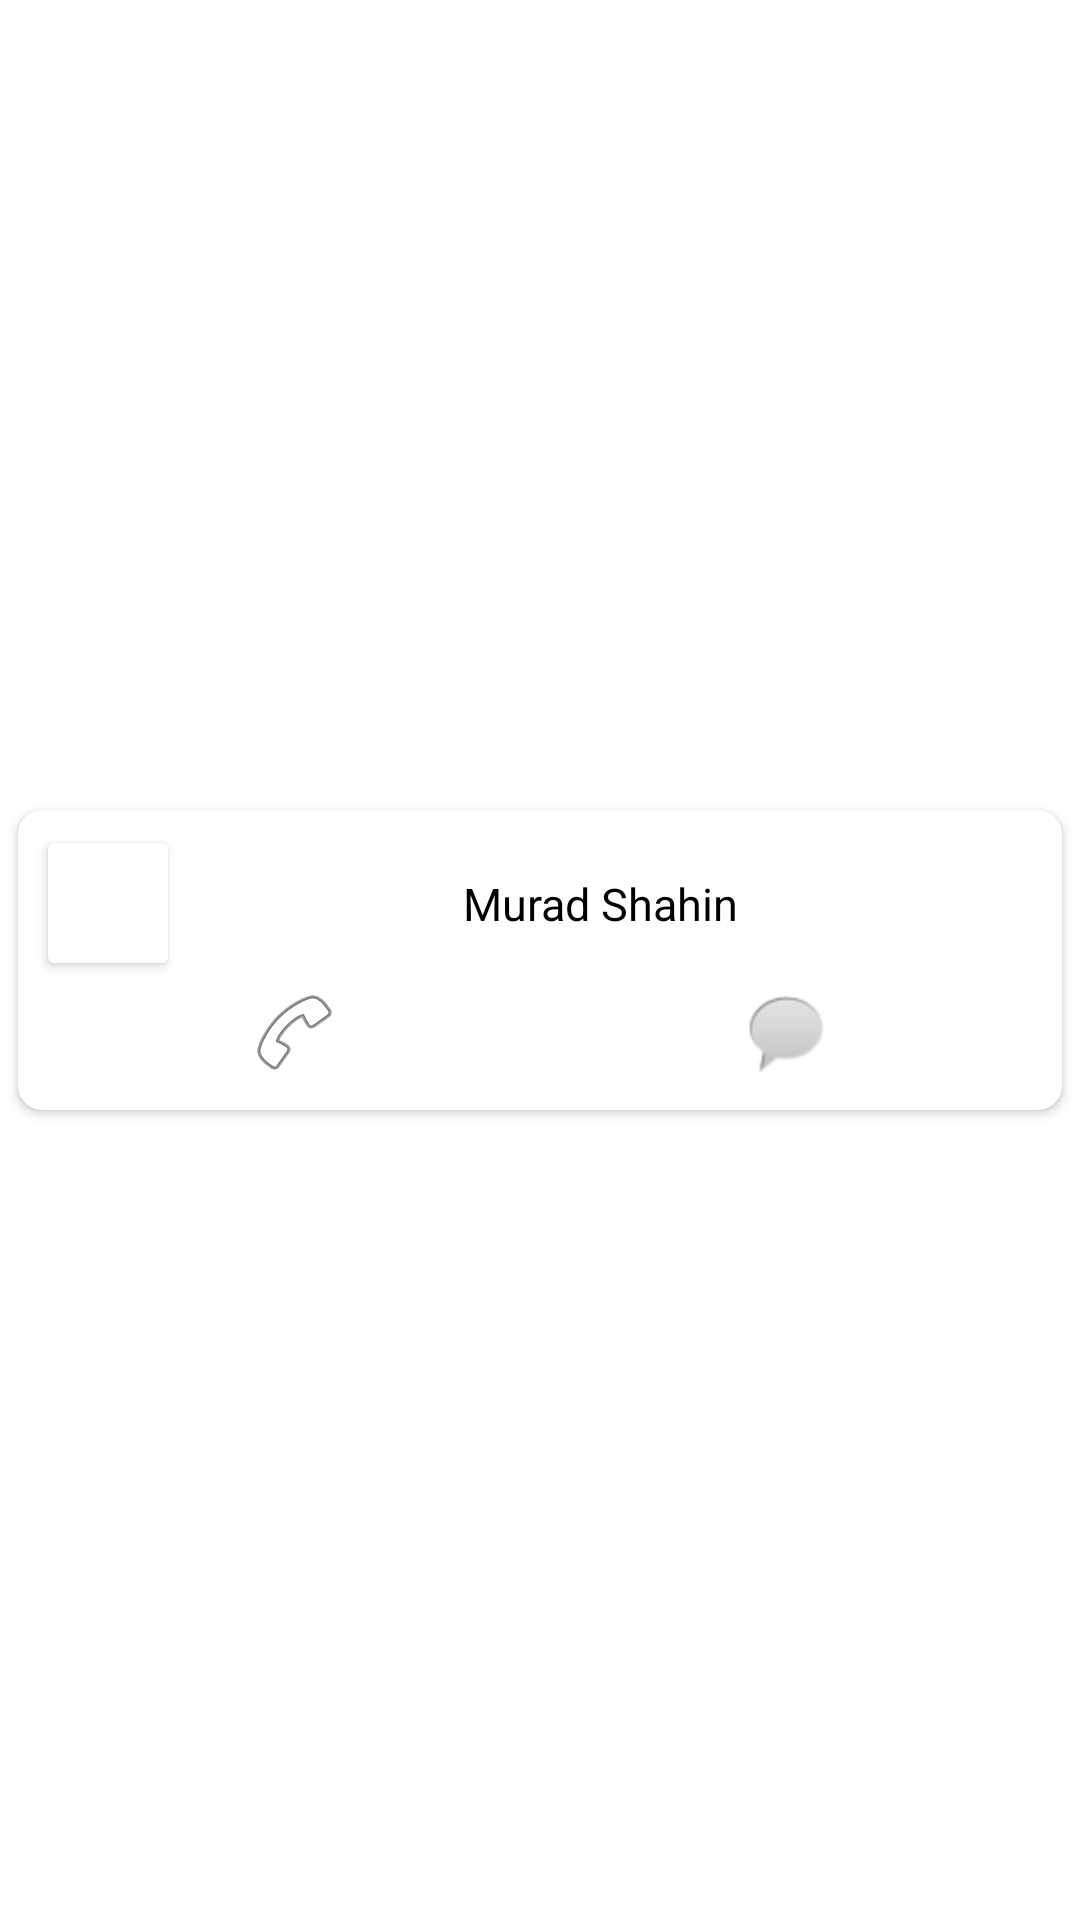

Icon click points for this 1080*1920 phone screenshot, format point (x, y):
call: point (294, 1032)
sym action chat: point (785, 1033)
